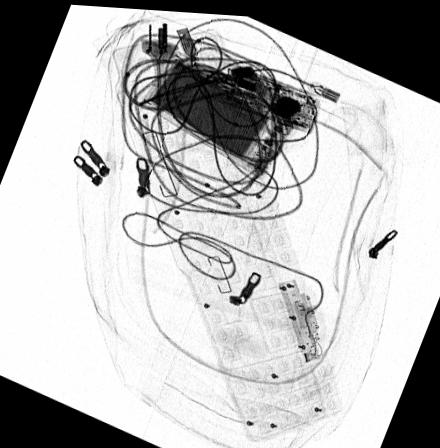Powerbank: (141, 48, 303, 175)
